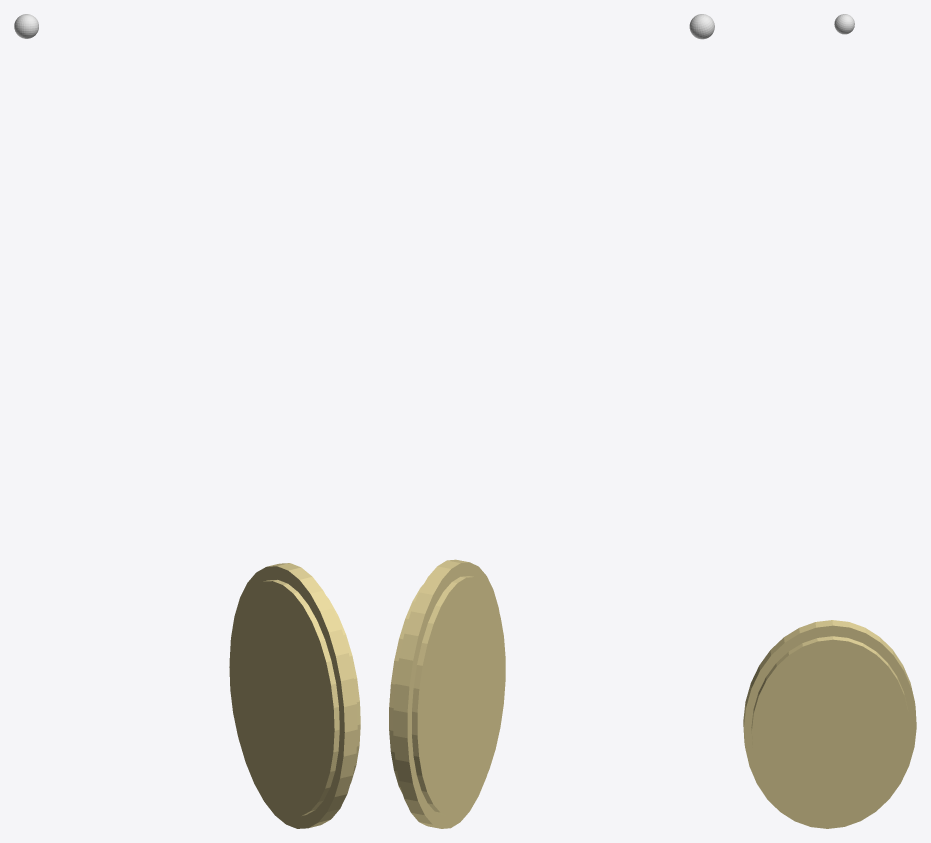
The model's file is OneRiceKrispy.fbx.
3 views of the same model, side by side, from view 1: azimuth 30°, elevation 25°; view 2: azimuth 150°, elevation 25°; view 3: azimuth 270°, elevation 25° (orthographic). The views are drawn at different scales.
Visible parts, largest first — view 1: Cylinder.003, Cylinder.002; view 2: Cylinder.003, Cylinder.002; view 3: Cylinder.003, Cylinder.002, Sphere.
Part boxes in pixels (box(x1,y1,x2,y2)): Cylinder.003: box(229, 579, 360, 816); Cylinder.002: box(229, 563, 357, 828); Cylinder.003: box(389, 576, 505, 816); Cylinder.002: box(393, 559, 499, 828); Cylinder.003: box(751, 636, 909, 821); Cylinder.002: box(743, 620, 916, 828); Sphere: box(834, 14, 854, 34).
Size of the model in its own units: 45.86 by 131 by 29.01.
